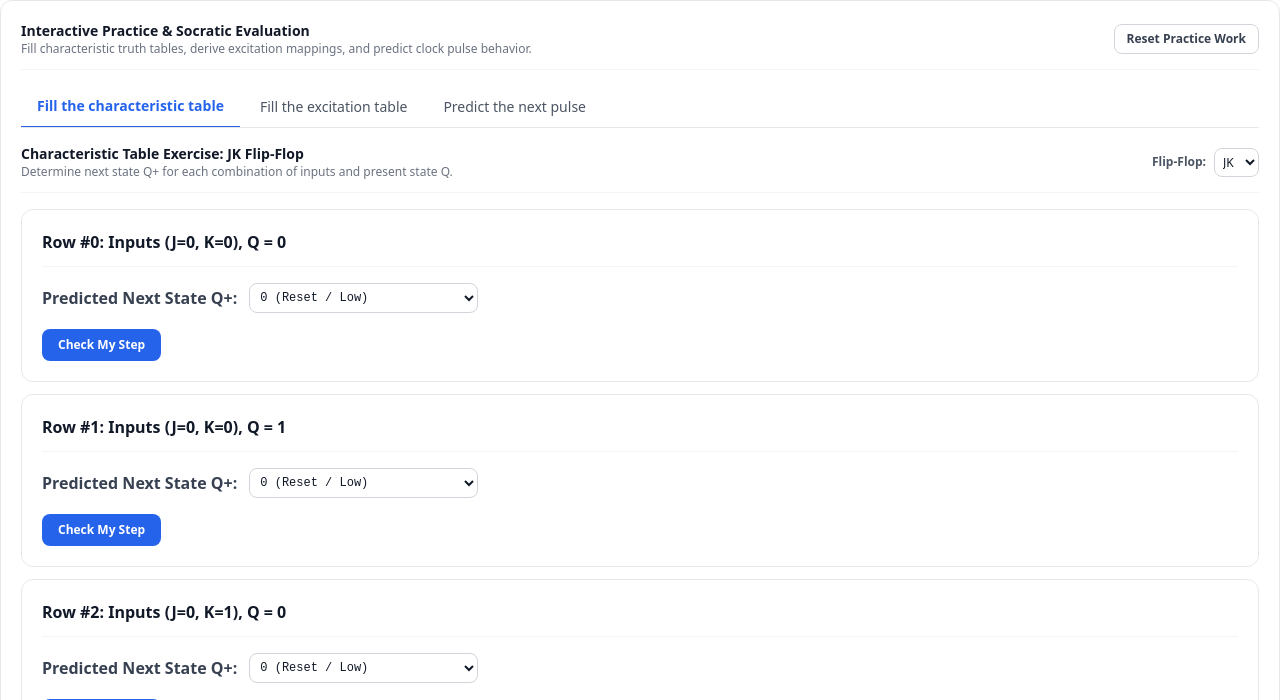
PracticePanel › accepts concrete 0 or 1 on don`t-care cells in excitation table
Switch to excitation practice tab
Click the tab "Fill the excitation table" at coordinates (334, 106), box x1=244 y1=86 x2=423 y2=127
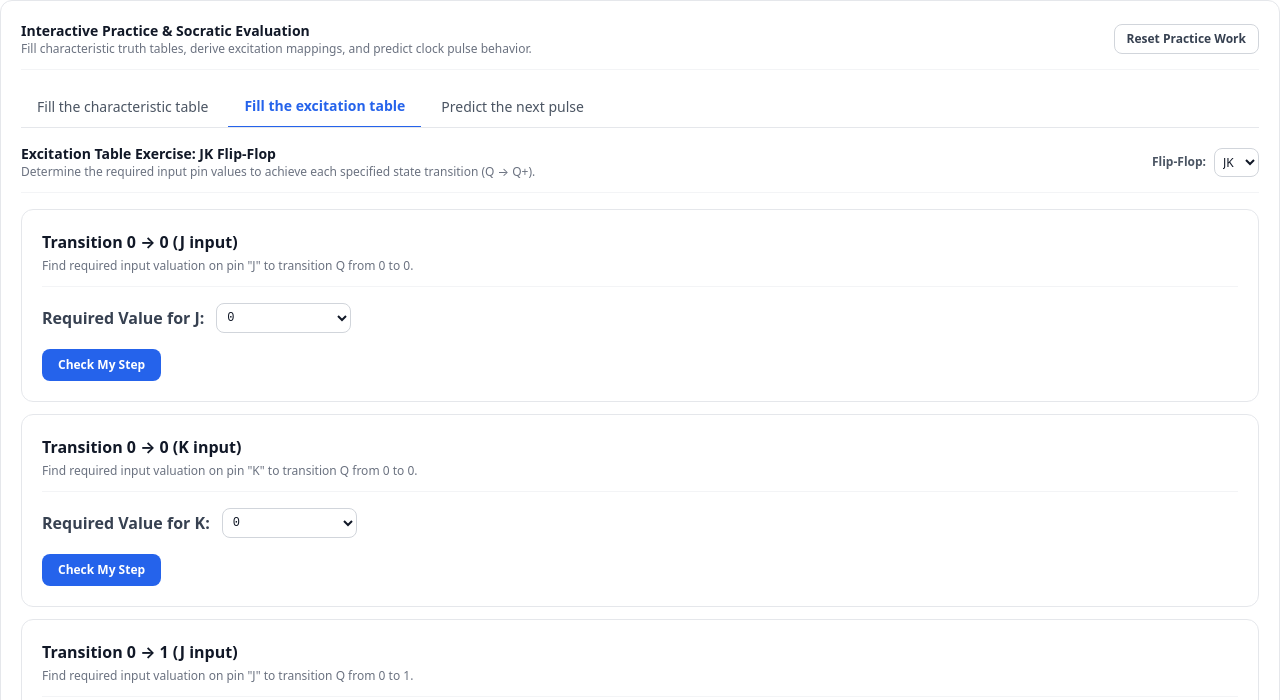
Student selects concrete '0'
Select "0" in the dropdown labelled "Required Value for K:" at coordinates (289, 523), box x1=222 y1=508 x2=357 y2=538
Click the button "Check My Step" below "Transition 0 → 0 (K input)" at coordinates (102, 570), box x1=42 y1=554 x2=161 y2=586
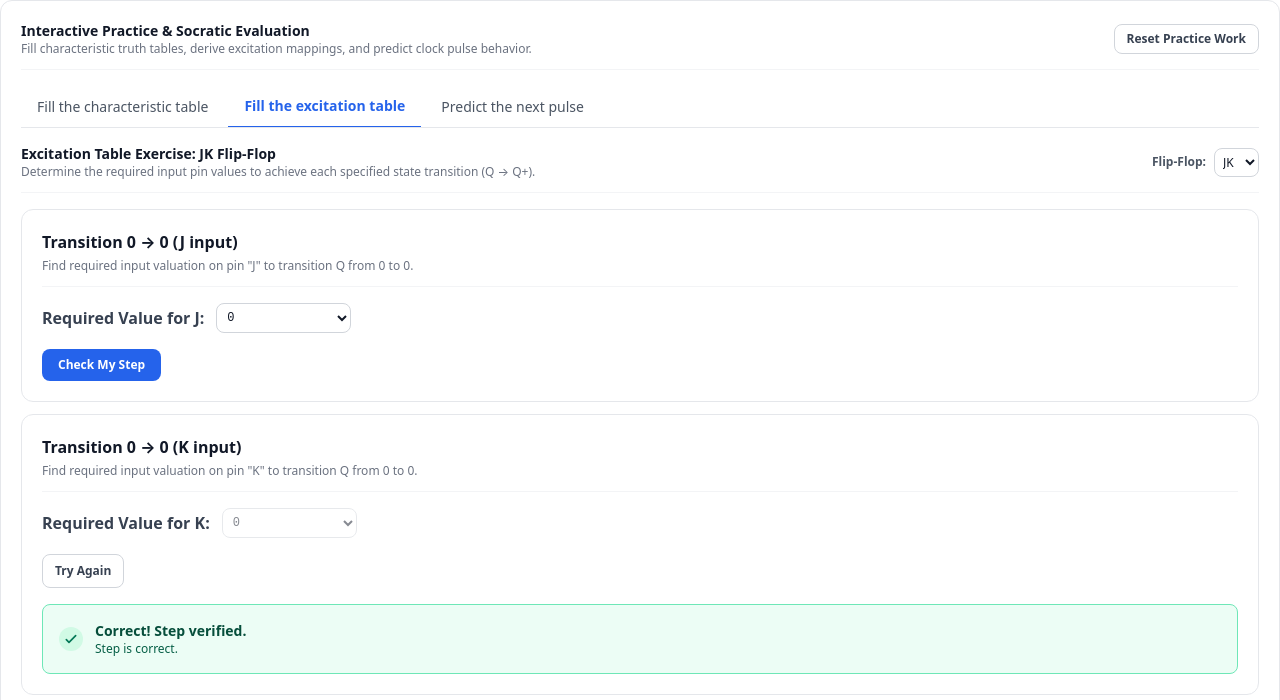
expect the text "Correct! Step verified." is shown: met, box x1=95 y1=621 x2=246 y2=641
